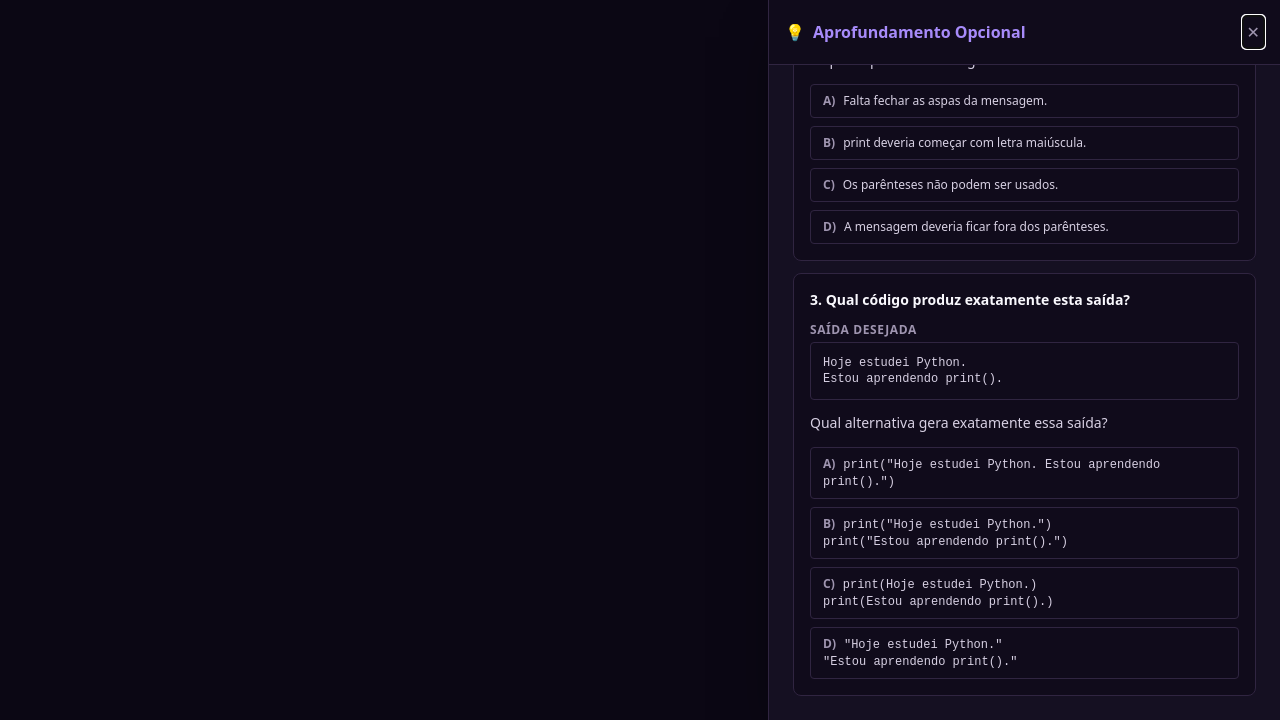
Test: DeepDivePanel — desafios conceituais da Unidade 1.1 (conteúdo real) › no desafio 3, a alternativa B (índice 1) é a reconhecida como correta
(page scrolled)
Click the button "B)" at {"x": 1024, "y": 533}, box [810,507,1239,559]
(page scrolled)
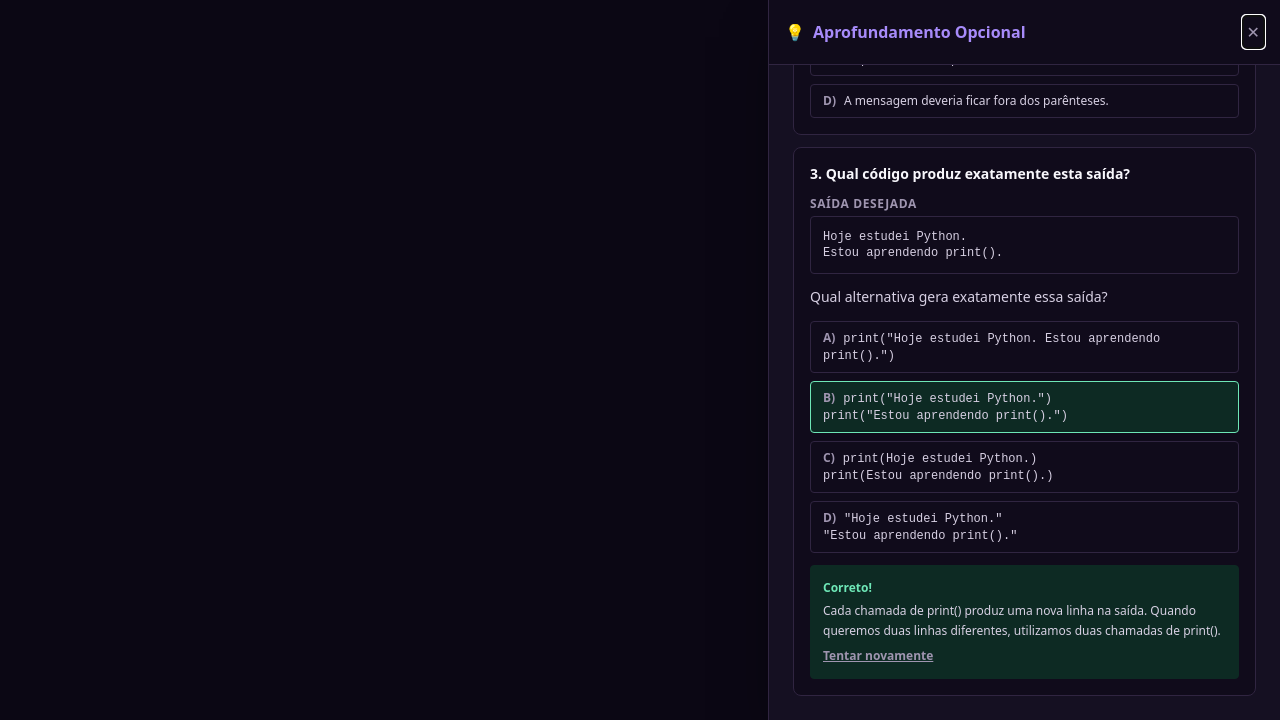
Expected: the text "Correto!" is shown, [823,579,872,596]
